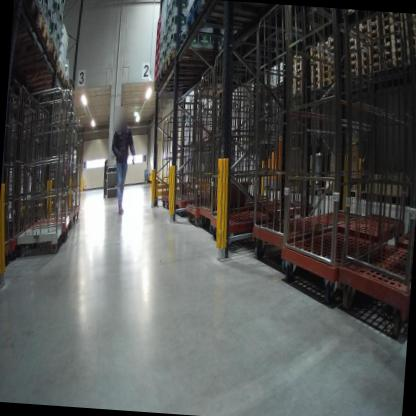pallet: (151, 70, 235, 103), (157, 59, 244, 89), (164, 48, 246, 79), (11, 35, 63, 81), (12, 9, 52, 64), (16, 60, 68, 96), (21, 70, 73, 97), (15, 0, 43, 32), (360, 26, 382, 48), (359, 38, 381, 59), (360, 51, 383, 71), (383, 27, 403, 49), (359, 61, 382, 80), (307, 36, 329, 55), (310, 62, 329, 81), (306, 49, 330, 64), (383, 49, 404, 65), (358, 14, 379, 30), (362, 19, 378, 40), (383, 38, 402, 55), (310, 59, 329, 75), (382, 22, 401, 37), (383, 57, 404, 70), (285, 86, 302, 102), (382, 16, 403, 28), (311, 80, 330, 93), (310, 73, 329, 86), (65, 84, 79, 101), (381, 12, 401, 23), (403, 16, 416, 31), (405, 26, 416, 39), (329, 37, 339, 51), (407, 52, 416, 66), (349, 55, 360, 66), (348, 26, 356, 40), (407, 33, 416, 45), (349, 62, 358, 74), (349, 38, 357, 51), (293, 55, 303, 65), (405, 14, 416, 23), (329, 50, 338, 61), (330, 79, 339, 90), (293, 71, 302, 82), (408, 43, 416, 54), (328, 69, 339, 77), (347, 70, 359, 77), (292, 64, 303, 71), (348, 49, 357, 56), (331, 60, 337, 70), (293, 82, 302, 87)
